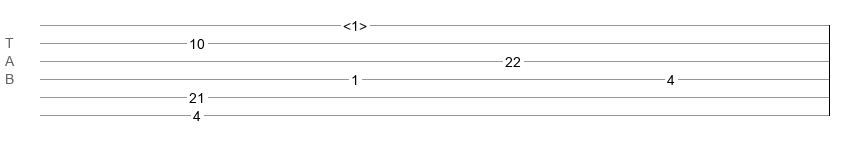1: (351, 72, 359, 82)
10: (189, 36, 205, 46)
21: (189, 90, 205, 100)
22: (505, 54, 521, 64)
4: (193, 108, 201, 118), (667, 72, 675, 82)
harmonic: (343, 18, 367, 28)
